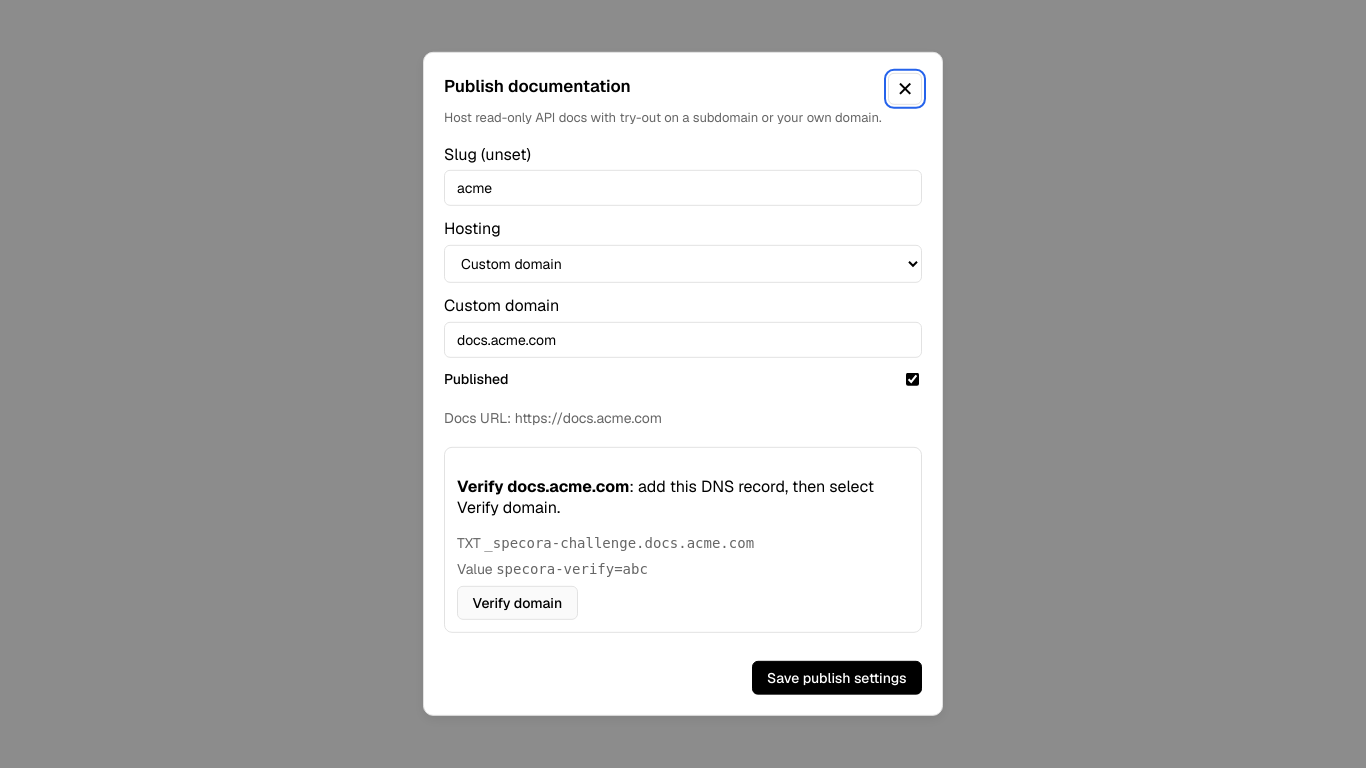
Test: PublishSettings › shows the DNS challenge and verifies the domain
Expected: the text "_specora-challenge.docs.acme.com" is shown, 484,534 -> 754,550
Expected: the text "specora-verify=abc" is shown, 496,560 -> 648,576
Click the button "Verify domain".
click(517, 603)  # box 457,585 -> 578,620
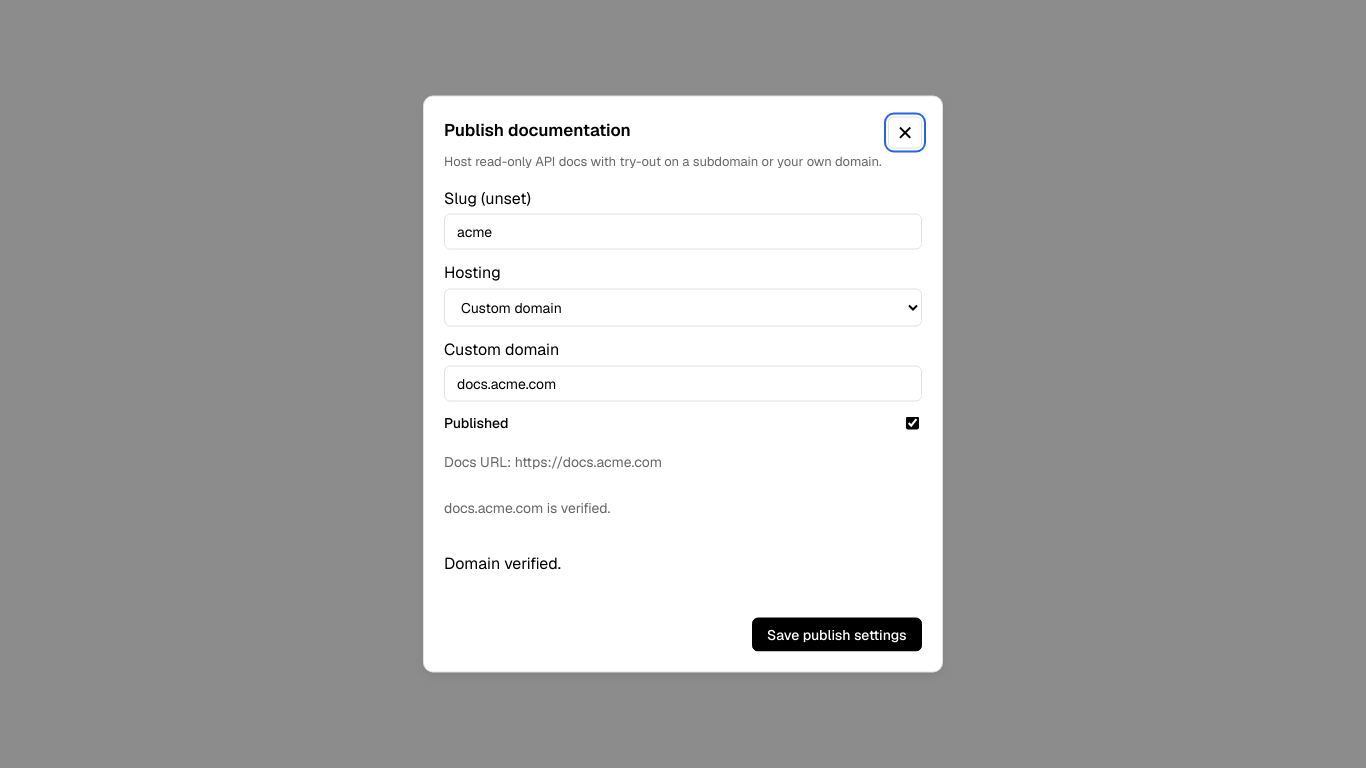
Expected: the text "docs.acme.com is verified." is shown, 444,498 -> 610,516
